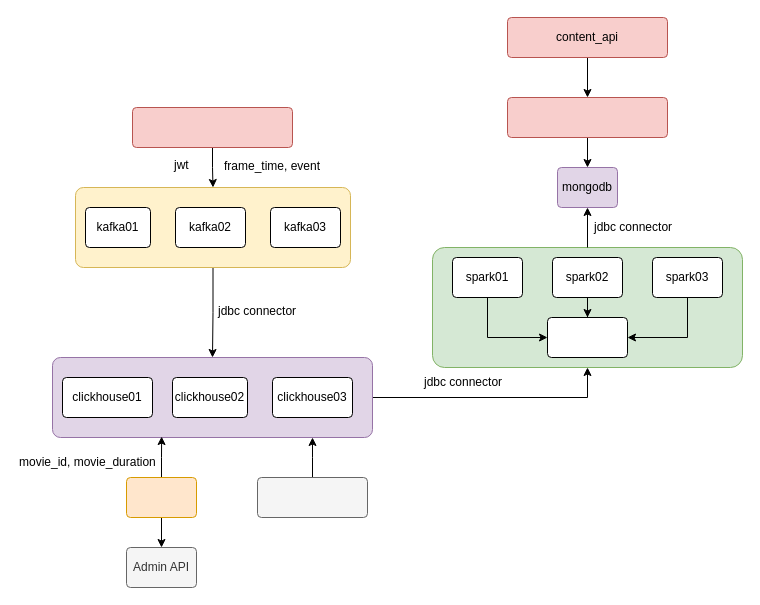
The diagram is 760 pixels wide and 605 high, and some of its shapes have lost their labels. The centre of each missing label's shape, as x and y in pixels:
clickhouse_initer: point (312, 497)
ETL: point (161, 497)
producer_api: point (212, 127)
recommended_system_grpc: point (587, 117)
spark-master: point (587, 337)
